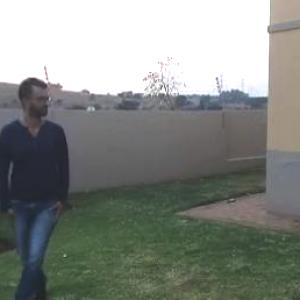follow: (9, 70, 79, 299)
